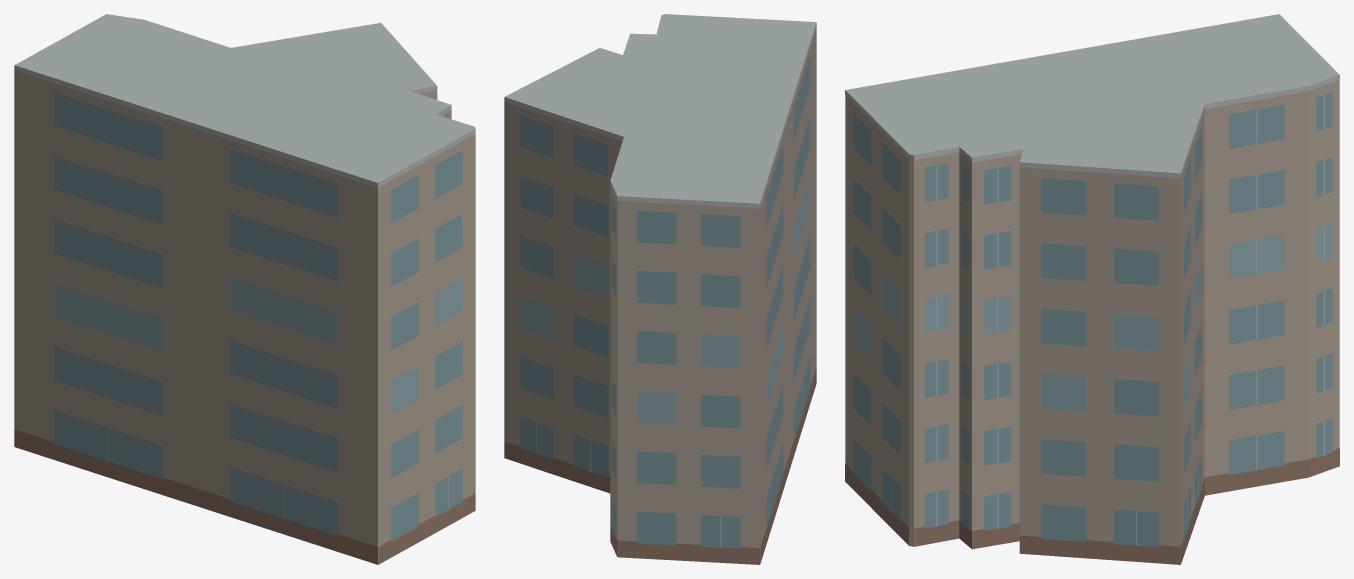
File: survey-upis-32545081.glb
The picture shows the model from 3 angles, left to right: view 1: azimuth 30°, elevation 25°; view 2: azimuth 150°, elevation 25°; view 3: azimuth 270°, elevation 25°; orthographic projection. The views are drawn at different scales.
Visible parts, largest first — view 1: survey-upis-32545081.tmp; view 2: survey-upis-32545081.tmp; view 3: survey-upis-32545081.tmp.
Boxes of the visible parts, x1,y1,x2,y2 form: survey-upis-32545081.tmp: (14, 14, 475, 564); survey-upis-32545081.tmp: (504, 14, 816, 564); survey-upis-32545081.tmp: (845, 14, 1339, 564).
Size of the model in its own units: 16.41 by 18.79 by 21.52.
